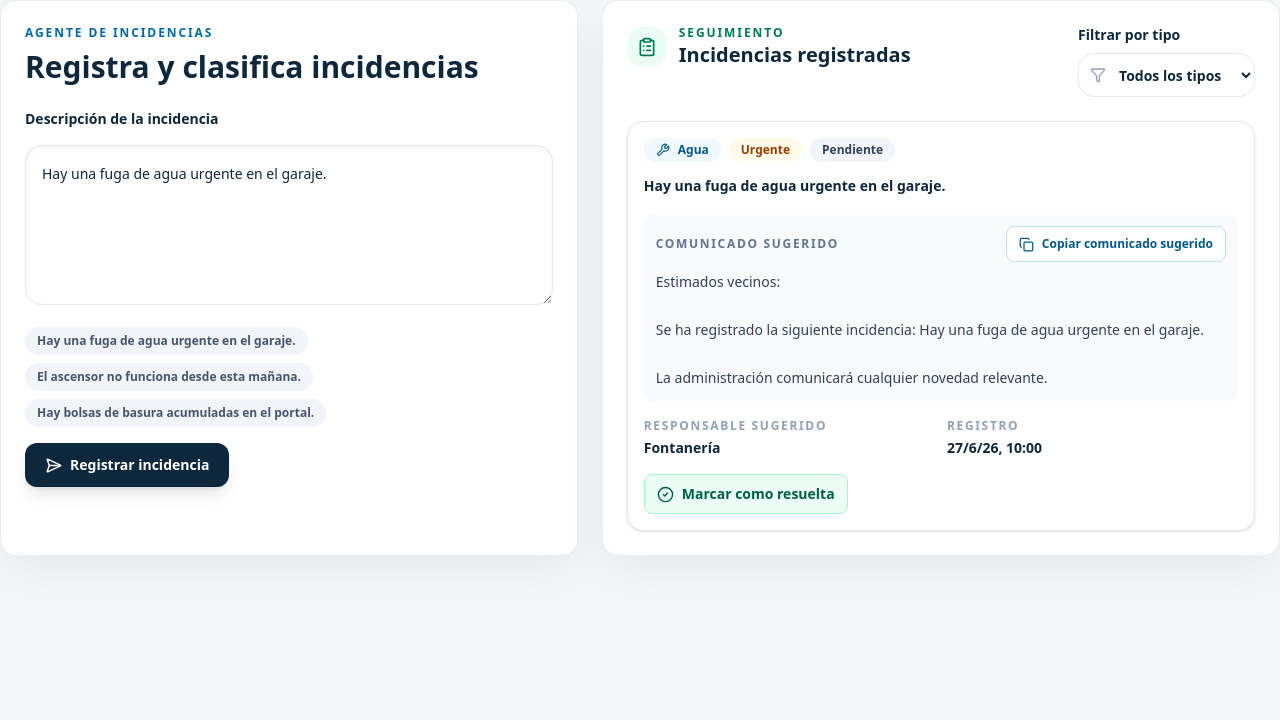
Test: IncidentsPanel › copia exactamente el comunicado sugerido de una incidencia
The width and height of the screenshot is (1280, 720).
Click the button "Copiar comunicado sugerido" at [1116, 244], box left=1006, top=226, right=1226, bottom=262
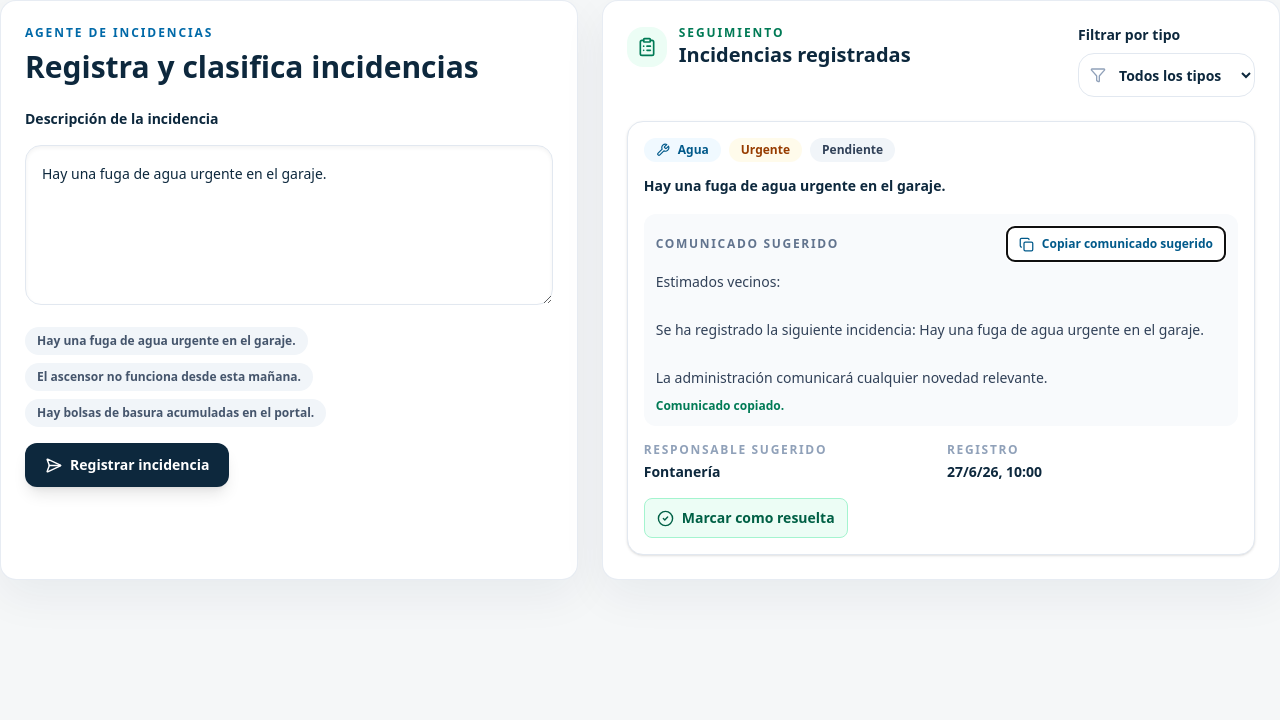
Expected: the text "Comunicado copiado." is shown, left=656, top=397, right=784, bottom=414
